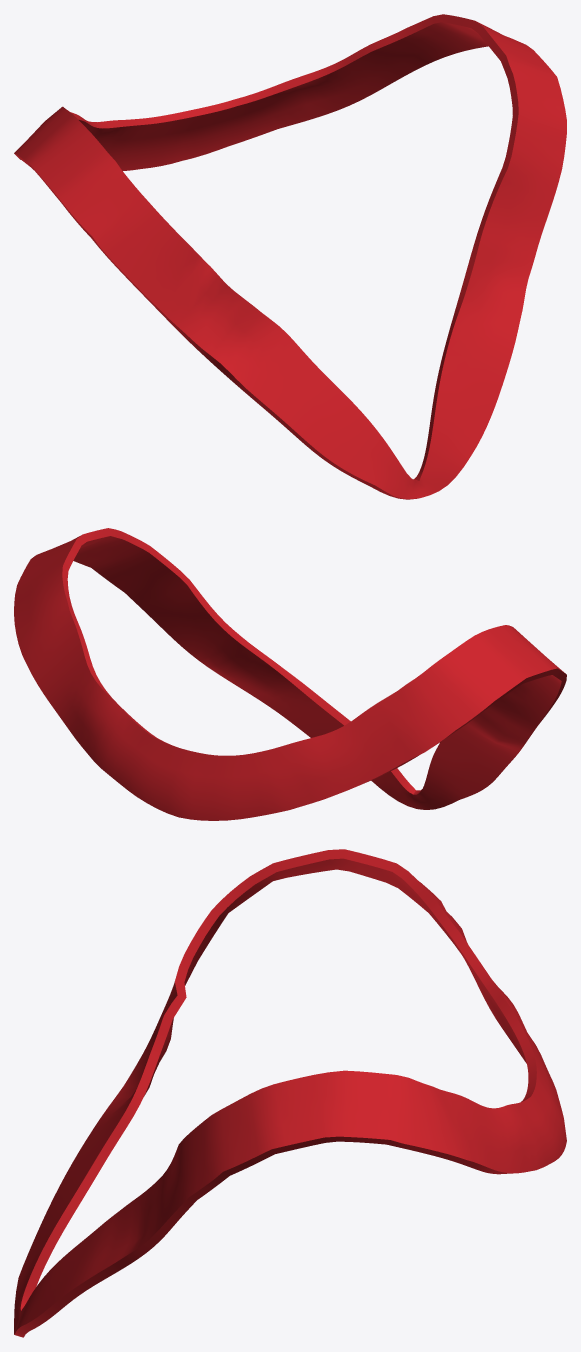
The model's file is WornMedal_Ribbon_Muscular.glb.
3 renders of one model, top to bottom at view 1: azimuth 30°, elevation 25°; view 2: azimuth 150°, elevation 25°; view 3: azimuth 270°, elevation 25°, orthographic. The views are drawn at different scales.
Parts seen in each view (by area): view 1: WornMedal_Ribbon_Muscular; view 2: WornMedal_Ribbon_Muscular; view 3: WornMedal_Ribbon_Muscular.
Boxes of the visible parts, x1,y1,x2,y2 form: WornMedal_Ribbon_Muscular: [14, 14, 566, 499]; WornMedal_Ribbon_Muscular: [14, 528, 566, 820]; WornMedal_Ribbon_Muscular: [14, 849, 566, 1337].
Bounding box in the file's own units: 1.7 × 1.06 × 1.44.
